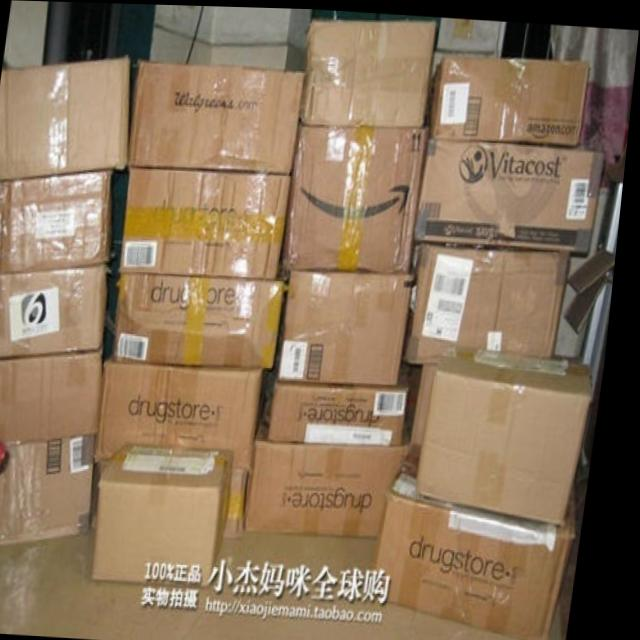box: (378, 440, 586, 640), (426, 342, 601, 523), (253, 393, 419, 535), (419, 133, 610, 254), (286, 117, 430, 270), (410, 238, 577, 362), (103, 440, 244, 584), (102, 353, 277, 469), (130, 57, 306, 172), (132, 58, 306, 172), (124, 166, 295, 278), (0, 53, 133, 182), (119, 273, 289, 368), (286, 267, 422, 382), (302, 17, 438, 125), (431, 54, 592, 144), (1, 169, 117, 273), (0, 340, 111, 445), (2, 433, 104, 543), (0, 263, 118, 358), (276, 365, 417, 442), (418, 360, 447, 443), (236, 466, 260, 536), (413, 362, 431, 428)
